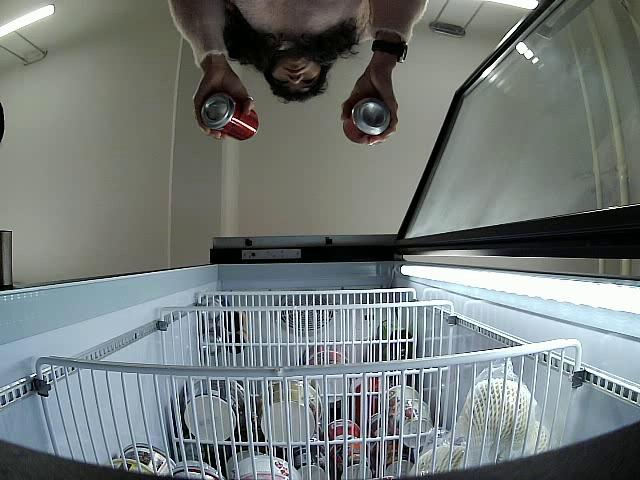00_hand: (191, 57, 255, 140), (341, 65, 400, 148)
11_cocaColaZero: (199, 89, 259, 143), (342, 96, 394, 144)
